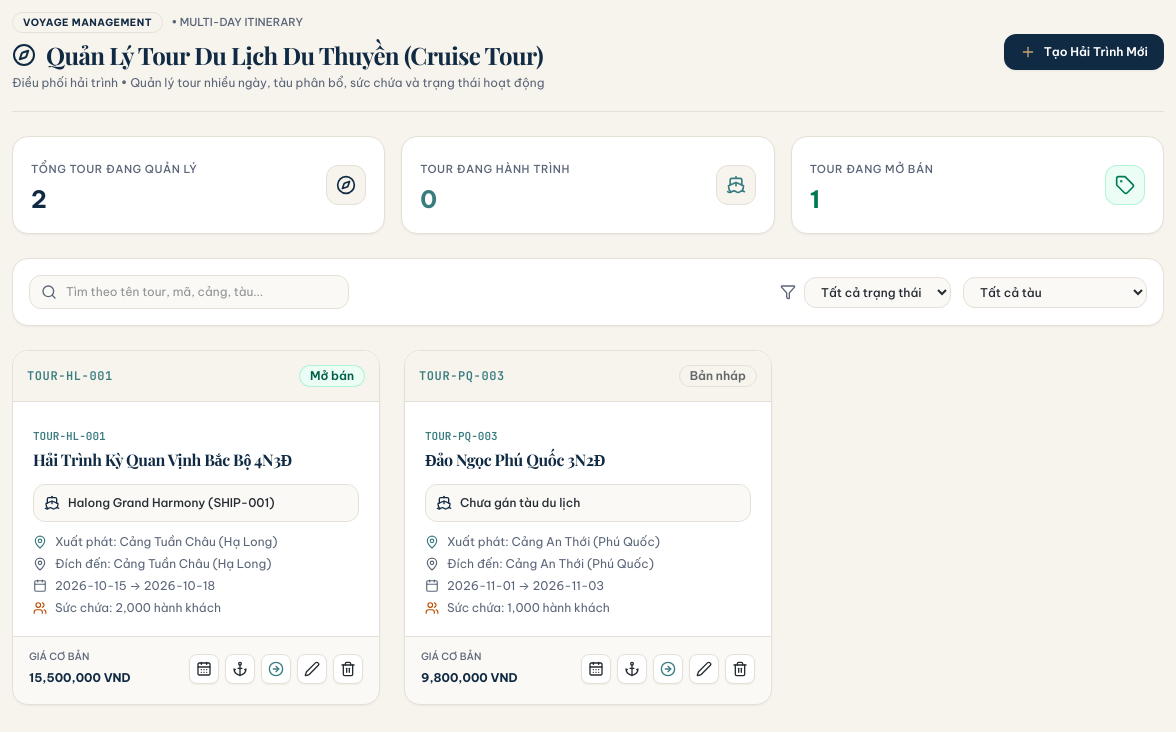
it: ItineraryPage (Cruise Tour Management Interface) › filters tours by status dropdown
The image size is (1176, 732).
Expected: the heading "Hải Trình Kỳ Quan Vịnh Bắc Bộ 4N3Đ" is shown, [33, 449, 292, 470]
Select "Bản nháp" in the dropdown named "Lọc theo trạng thái" at {"x": 878, "y": 292}, box [804, 276, 951, 308]
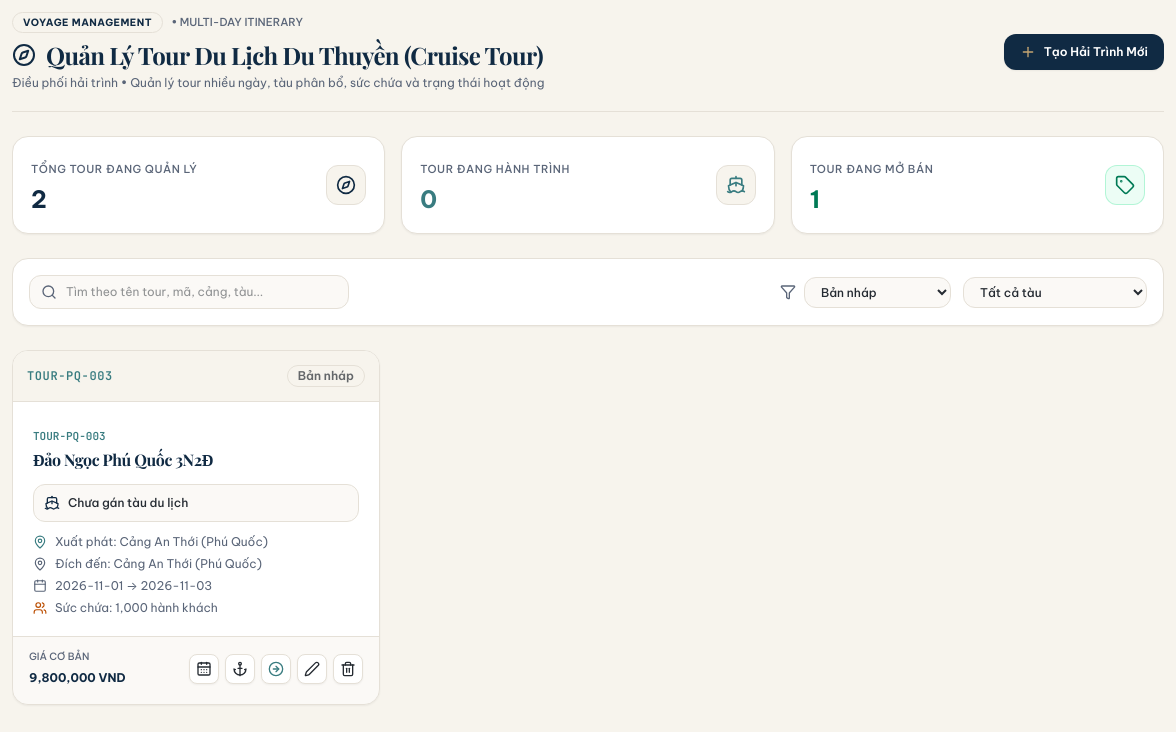
Expected: the heading "Đảo Ngọc Phú Quốc 3N2Đ" is shown, [33, 449, 213, 470]
Result: the heading "Hải Trình Kỳ Quan Vịnh Bắc Bộ 4N3Đ" is gone
